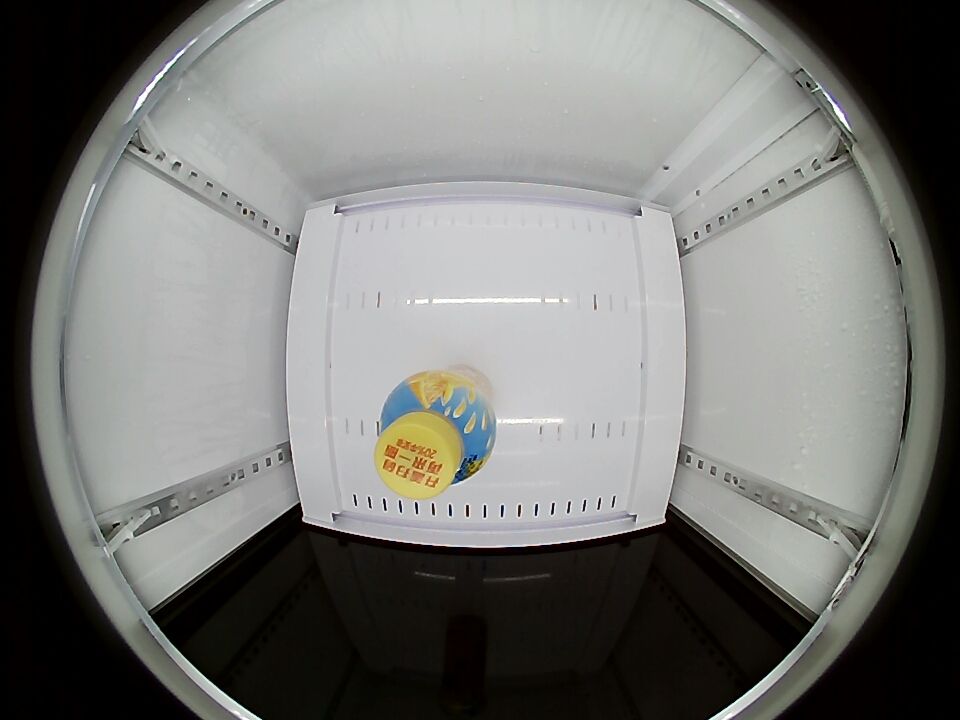guolicheng: (375, 369, 496, 500)
